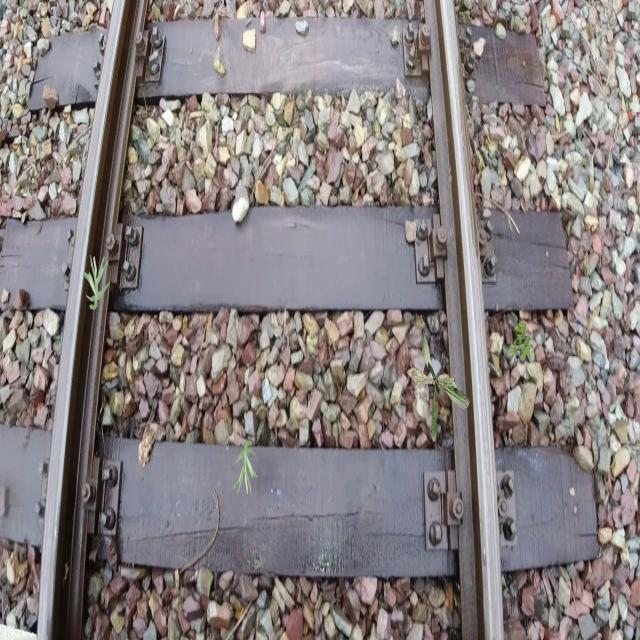Plant: (407, 330, 471, 442), (232, 440, 258, 497), (84, 254, 110, 310), (509, 321, 533, 362)
